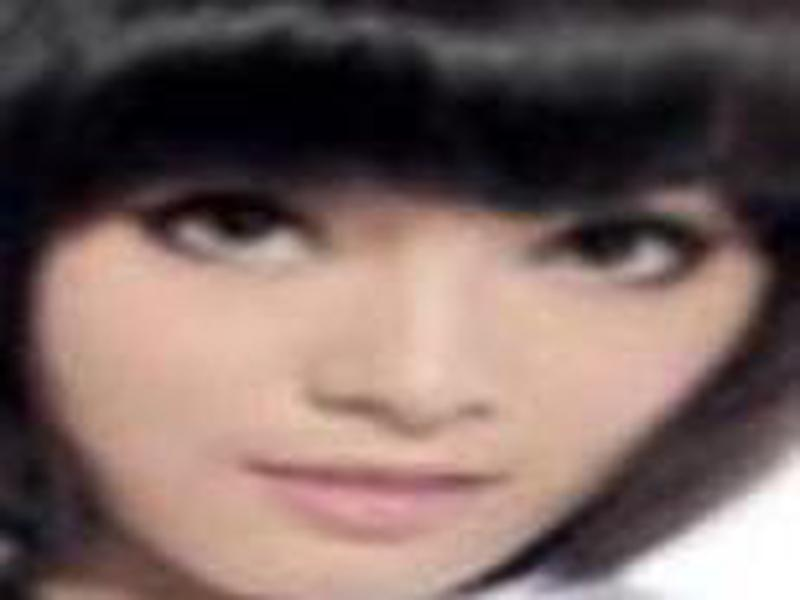without_mask: (33, 112, 759, 600)
